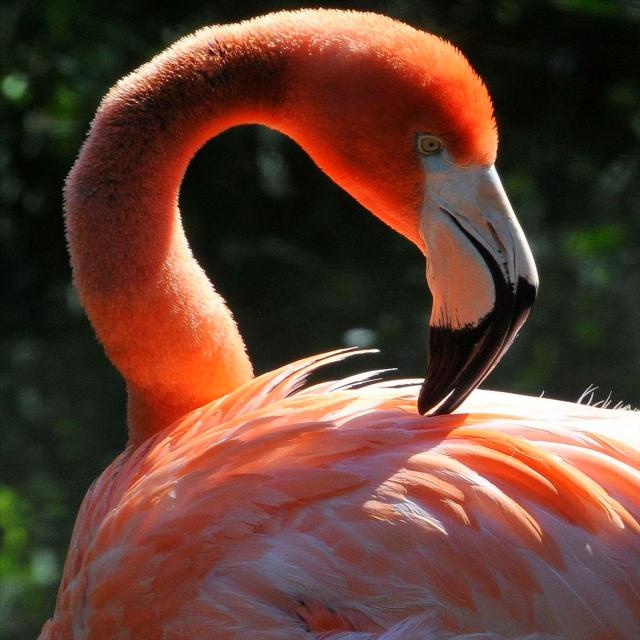flamingo: (38, 9, 639, 639)
